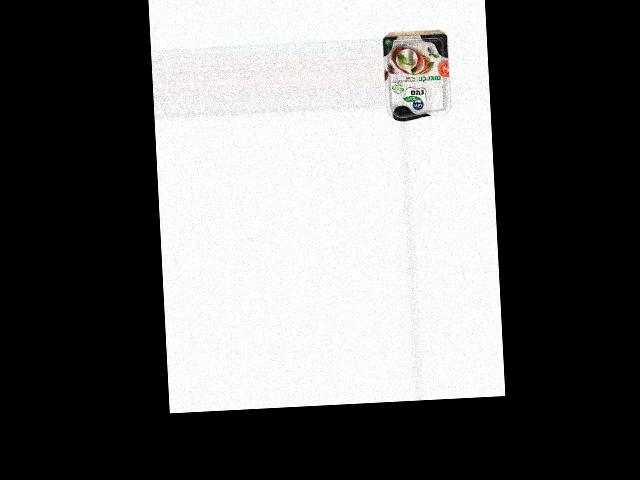cheese: (382, 32, 452, 120)
